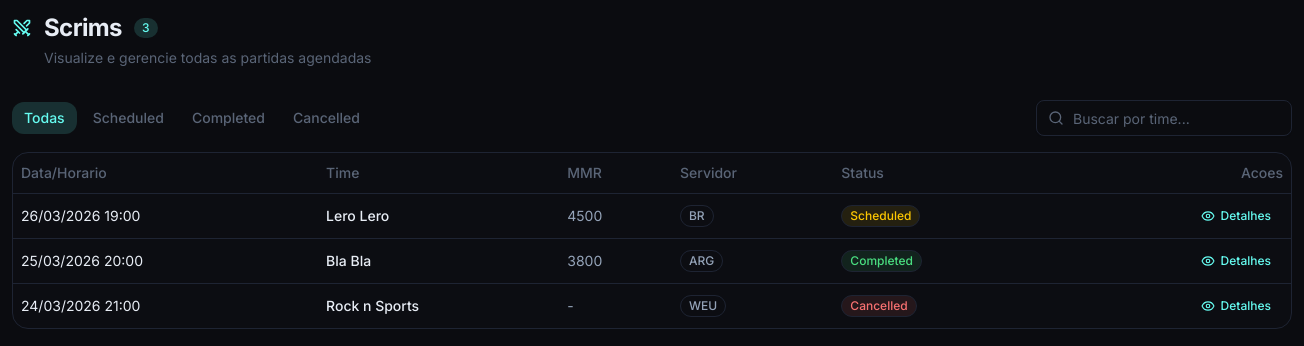
Scenario: AdminScrims › search › filters scrims by team name
The width and height of the screenshot is (1304, 346).
Type "Lero" into the field with placeholder "Buscar por time..." at (1164, 118), box [1036, 100, 1292, 136]
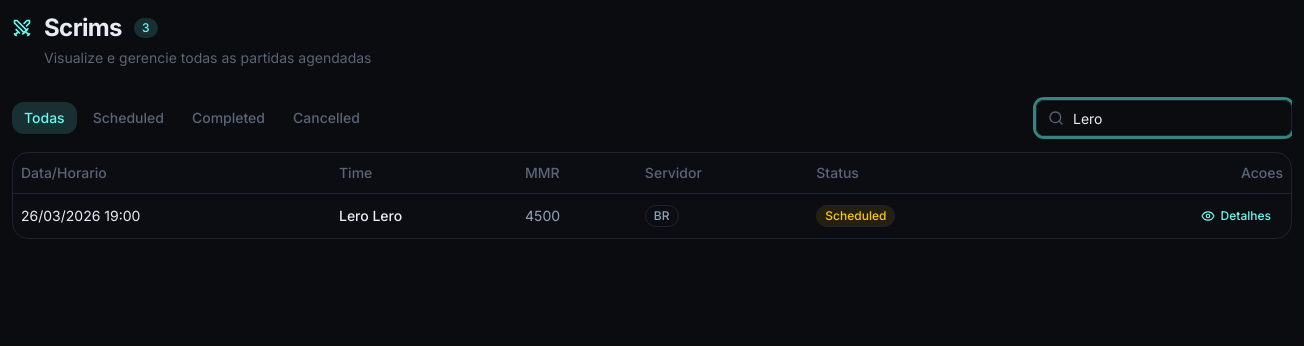
Expected: the text "Lero Lero" is shown, [331, 193, 517, 238]
Result: the text "Bla Bla" is gone
